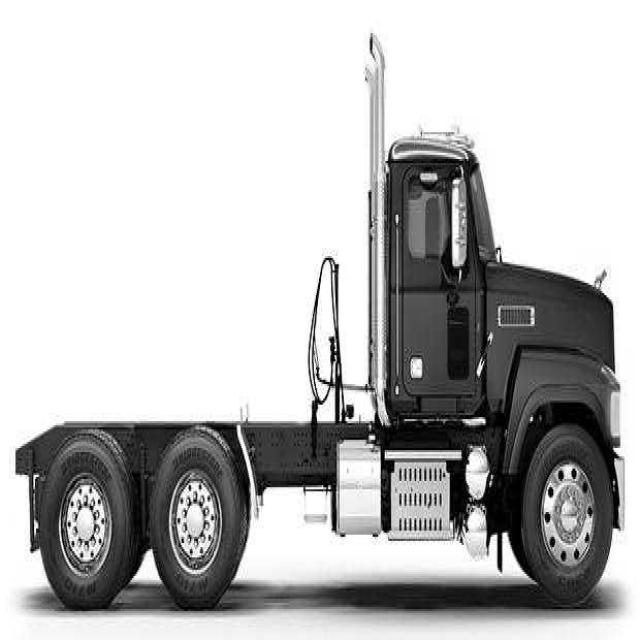Truck: (16, 35, 624, 609)
